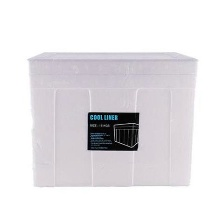foam_box: (21, 47, 200, 191)
